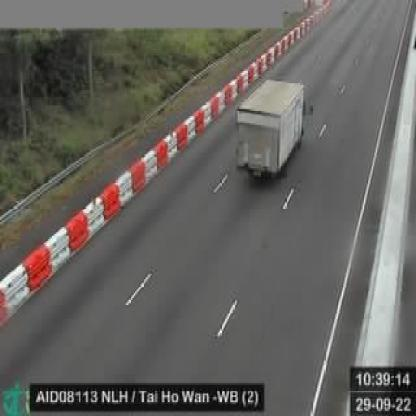Truck: (233, 78, 309, 185)
